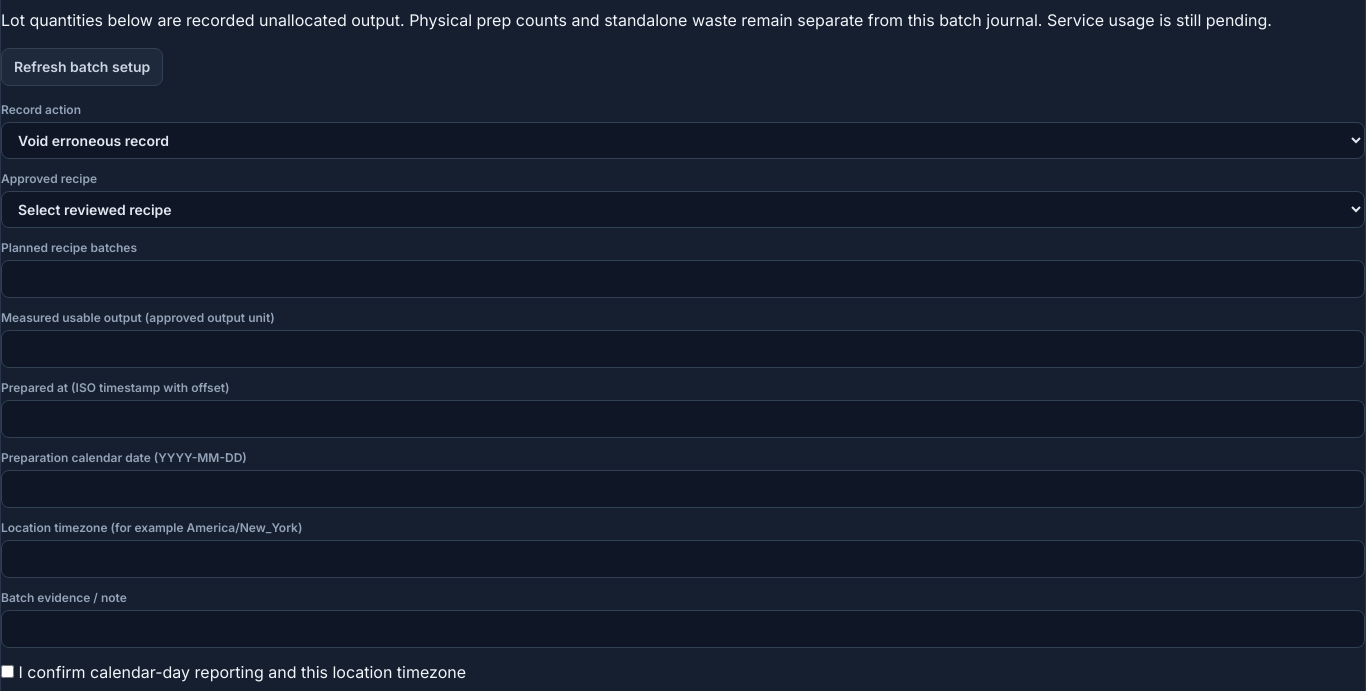
Scenario: a held dependency review keeps the proposed batch correction unavailable
The image size is (1366, 691).
Select "Void erroneous record" in the dropdown labelled "Record action" at (683, 140), box [1,122,1365,159]
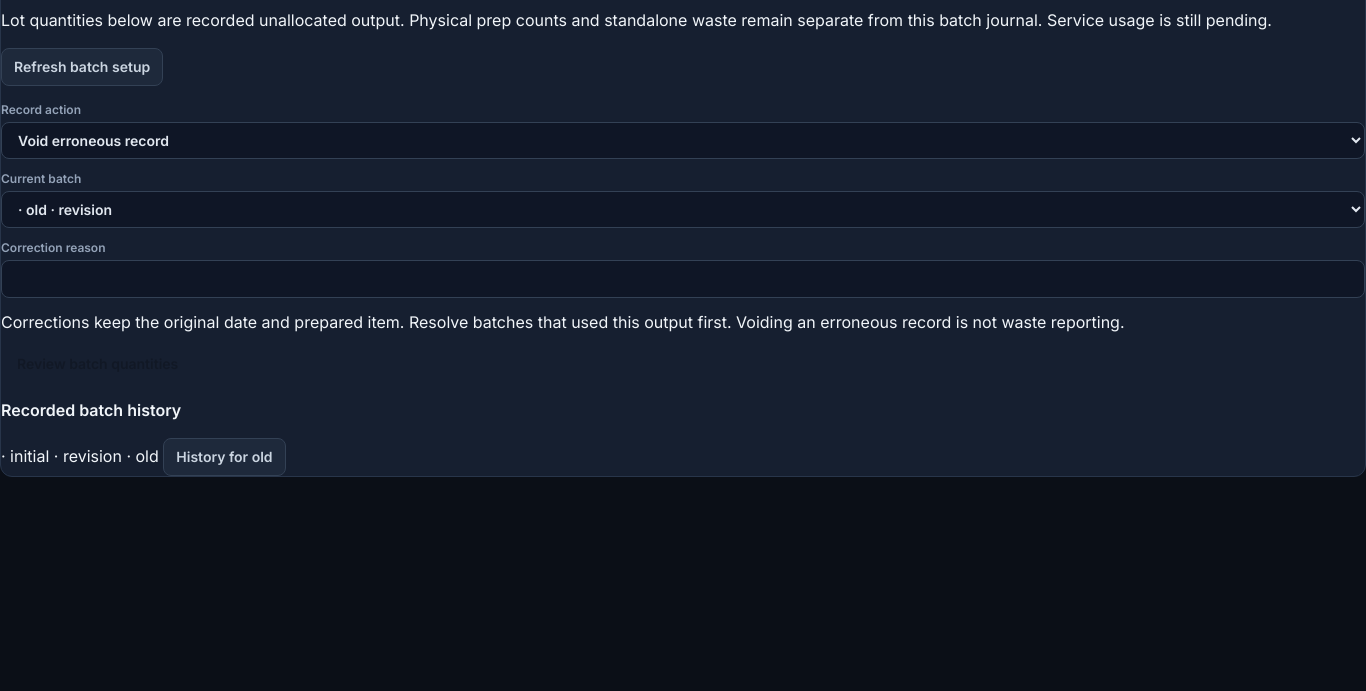
Select "· old · revision" in the dropdown labelled "Current batch" at (683, 210), box [1,191,1365,228]
(page scrolled)
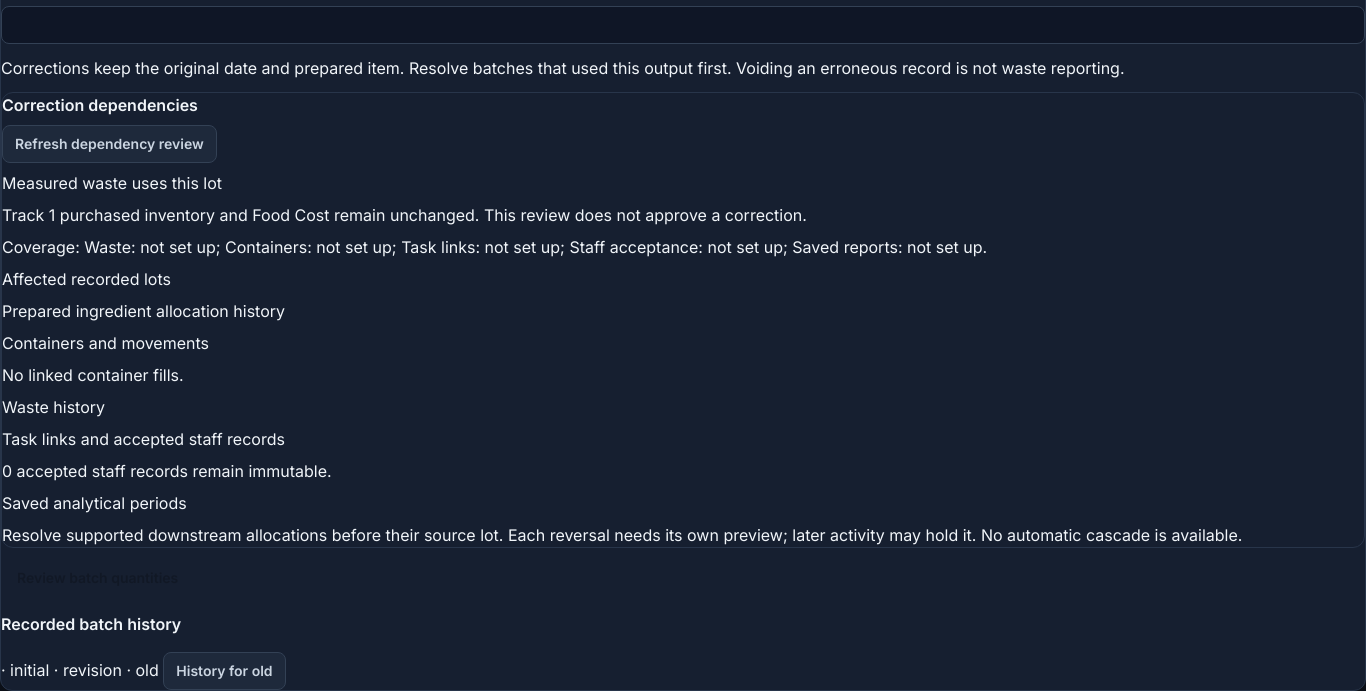
Expected: the button "Review batch quantities" is disabled, [1,560,194,596]
Expected: the text "Measured waste uses this lot" is shown, [2,173,222,193]
